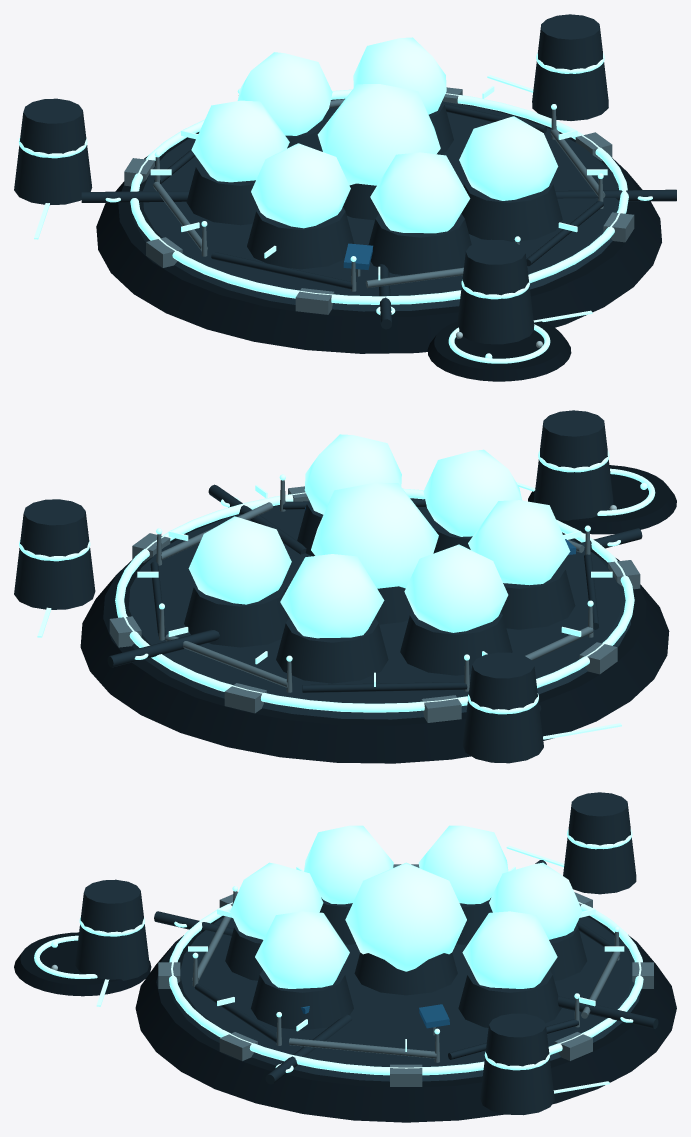
The model's file is crystalStorage-stage2.glb.
3 renders of one model, top to bottom at view 1: azimuth 30°, elevation 25°; view 2: azimuth 150°, elevation 25°; view 3: azimuth 270°, elevation 25°, orthographic. The views are drawn at different scales.
Visible parts, largest first — view 1: crystal-cell (×7), armored-foundation, upper-deck, detail (×7), refinery-annex-1, refinery-annex-2, refinery-annex-0, perimeter-light, landing-pad, service-catwalk-2, utility-conduit-3, utility-conduit-1 (+12 smaller); view 2: crystal-cell (×7), armored-foundation, upper-deck, detail (×7), refinery-annex-1, refinery-annex-2, refinery-annex-0, perimeter-light, landing-pad, service-catwalk-4, utility-conduit-2, service-catwalk-5 (+11 smaller); view 3: crystal-cell (×7), armored-foundation, upper-deck, detail (×7), refinery-annex-2, refinery-annex-1, refinery-annex-0, perimeter-light, landing-pad, service-catwalk-7, utility-conduit-2, utility-conduit-3 (+10 smaller).
Part boxes in pixels (<box>): crystal-cell (×7): <box>191,37,558,233</box>; armored-foundation: <box>96,99,661,353</box>; upper-deck: <box>132,99,626,311</box>; detail (×7): <box>186,101,562,275</box>; refinery-annex-1: <box>14,98,92,204</box>; refinery-annex-2: <box>532,14,608,120</box>; refinery-annex-0: <box>457,239,534,344</box>; perimeter-light: <box>130,89,628,304</box>; landing-pad: <box>427,319,571,381</box>; service-catwalk-2: <box>211,252,352,289</box>; utility-conduit-3: <box>555,189,676,201</box>; utility-conduit-1: <box>81,191,189,202</box>; crystal-cell (×7): <box>188,434,570,638</box>; armored-foundation: <box>80,498,669,763</box>; upper-deck: <box>117,498,631,719</box>; detail (×7): <box>184,500,575,683</box>; refinery-annex-1: <box>462,652,543,763</box>; refinery-annex-2: <box>14,499,95,609</box>; refinery-annex-0: <box>534,410,613,520</box>; perimeter-light: <box>115,488,634,712</box>; landing-pad: <box>528,465,676,534</box>; service-catwalk-4: <box>302,682,467,692</box>; utility-conduit-2: <box>107,629,219,667</box>; service-catwalk-5: <box>165,634,287,687</box>; crystal-cell (×7): <box>230,825,582,988</box>; armored-foundation: <box>135,915,676,1122</box>; upper-deck: <box>171,916,641,1081</box>; detail (×7): <box>225,897,586,1030</box>; refinery-annex-2: <box>480,1013,554,1115</box>; refinery-annex-1: <box>563,792,636,894</box>; refinery-annex-0: <box>75,879,149,980</box>; perimeter-light: <box>169,901,643,1075</box>; landing-pad: <box>14,932,151,996</box>; service-catwalk-7: <box>289,1038,436,1058</box>; utility-conduit-2: <box>557,996,658,1028</box>; utility-conduit-3: <box>265,1014,351,1084</box>.
Bounding box in the file's own units: 11.31 × 2.83 × 11.84.
